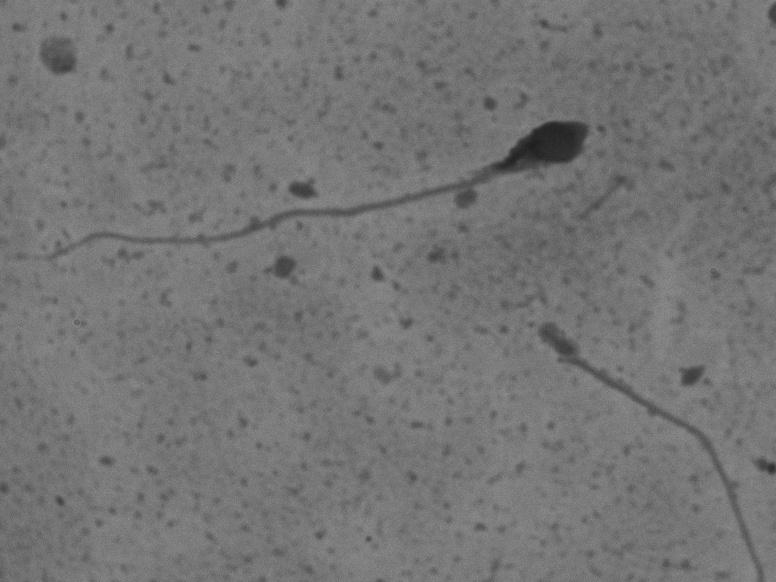Abnormal: (25, 80, 617, 308), (503, 300, 759, 543)
